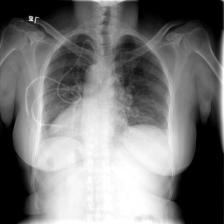normal: (37, 26, 174, 160)
